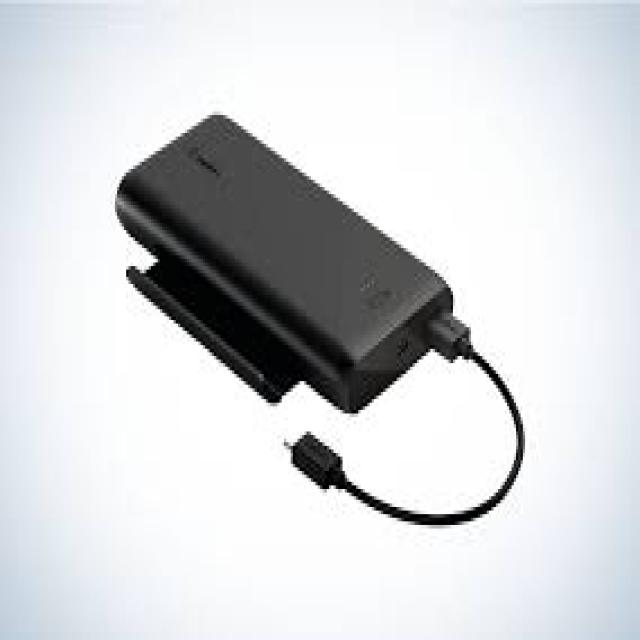power_bank: (112, 108, 460, 421)
